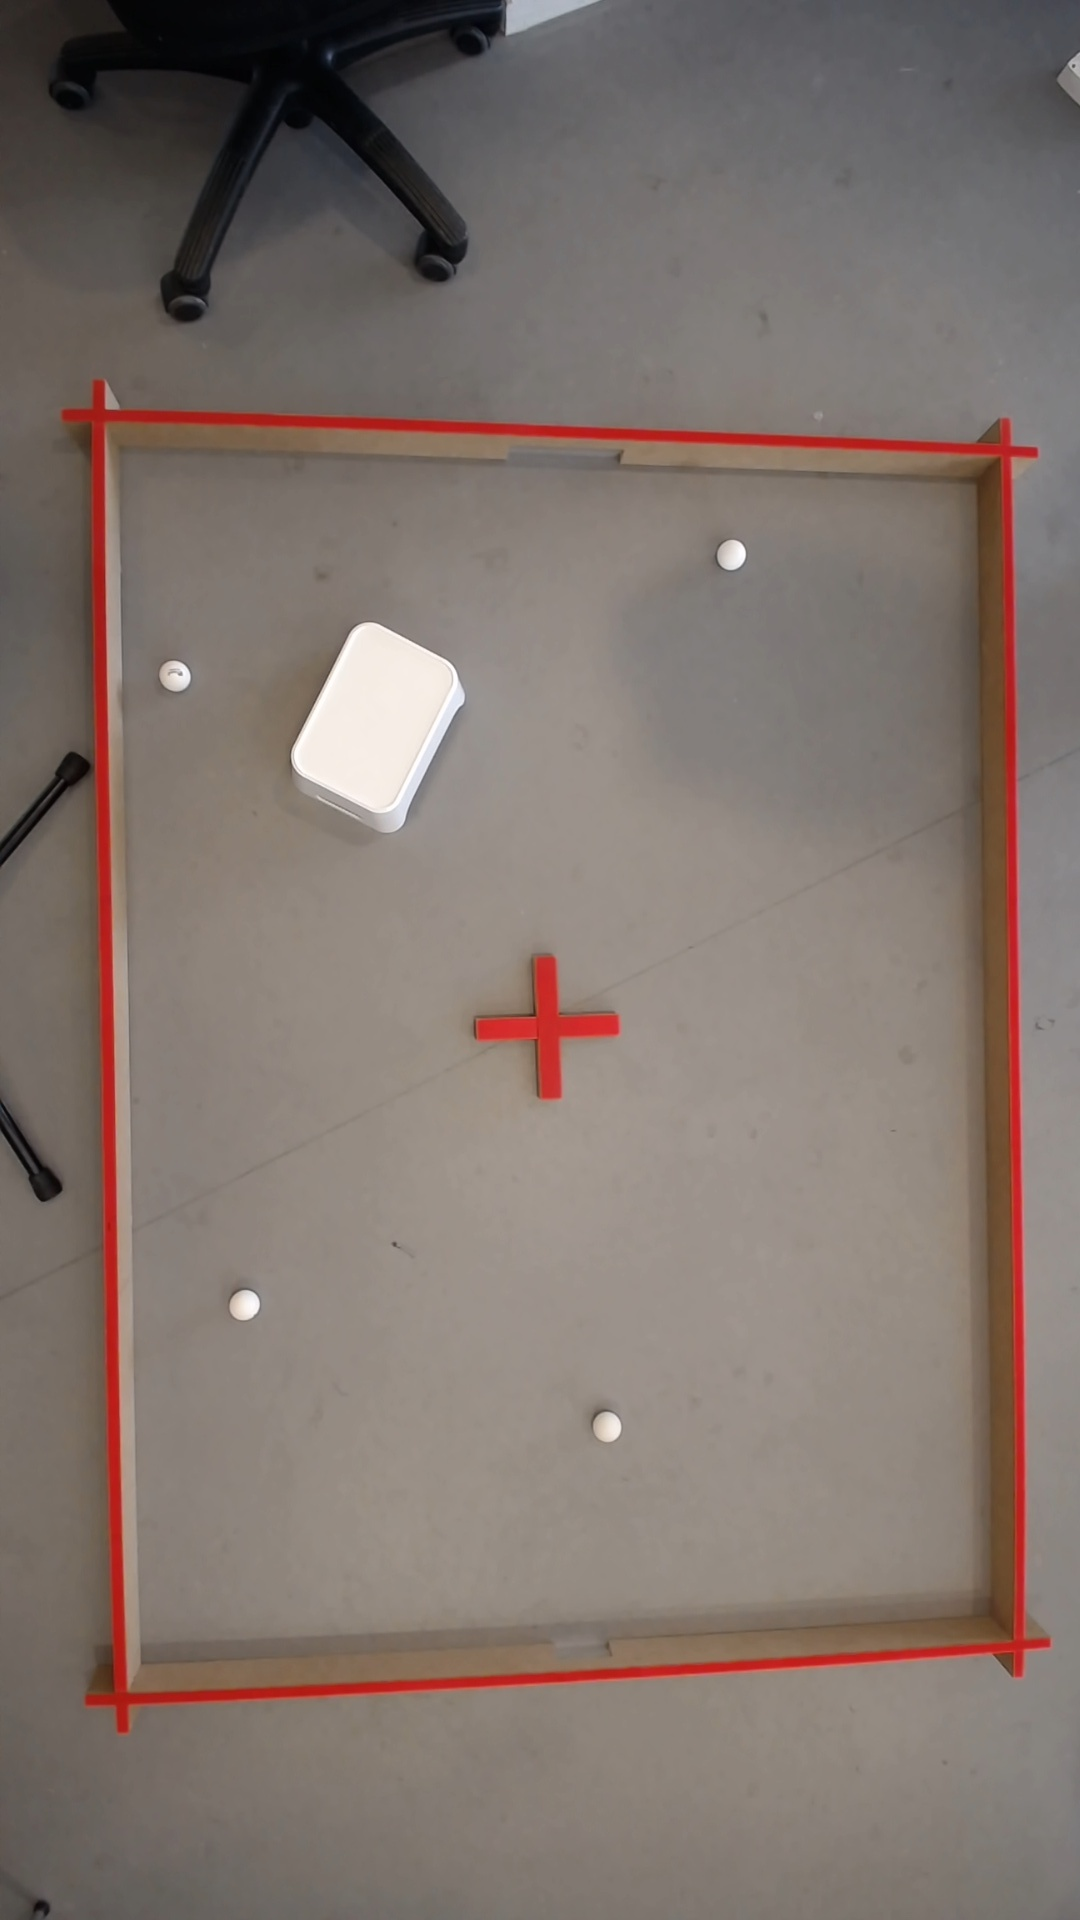balls: (157, 655, 194, 694), (228, 1286, 264, 1324), (715, 535, 750, 574)
car: (592, 1410, 626, 1445)
